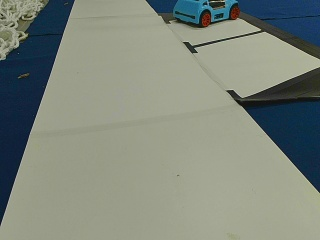car: (174, 0, 240, 26)
